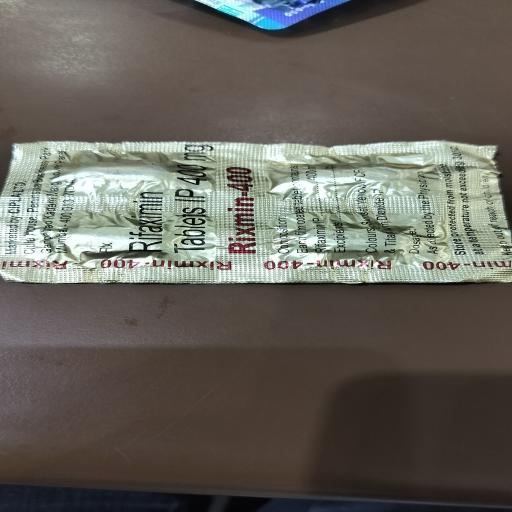medicine: (2, 138, 512, 287)
rifaximin: (96, 140, 269, 261)
